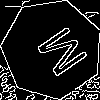M: (27, 24, 89, 85)
